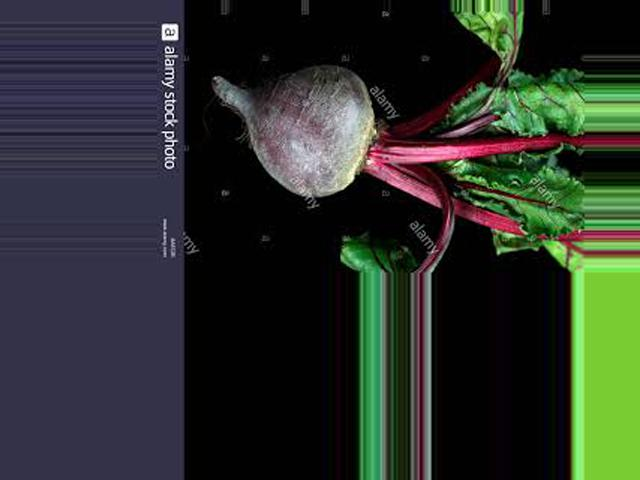beet: (211, 12, 583, 274)
